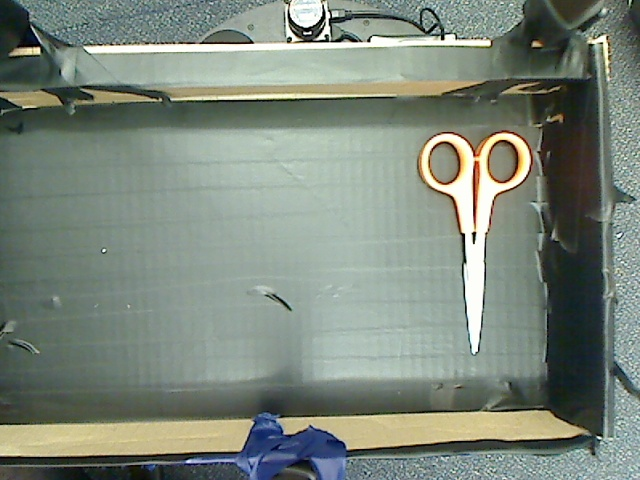scissors: (406, 125, 529, 357)
